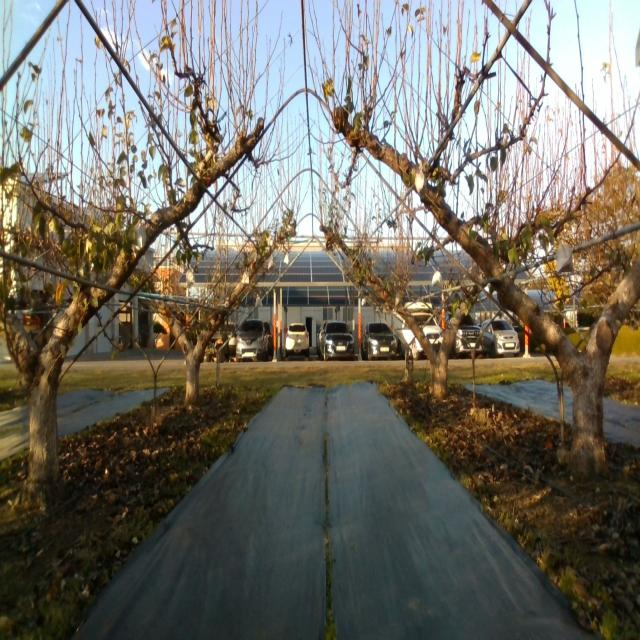pearbags: (556, 243, 574, 274), (431, 270, 443, 288)
